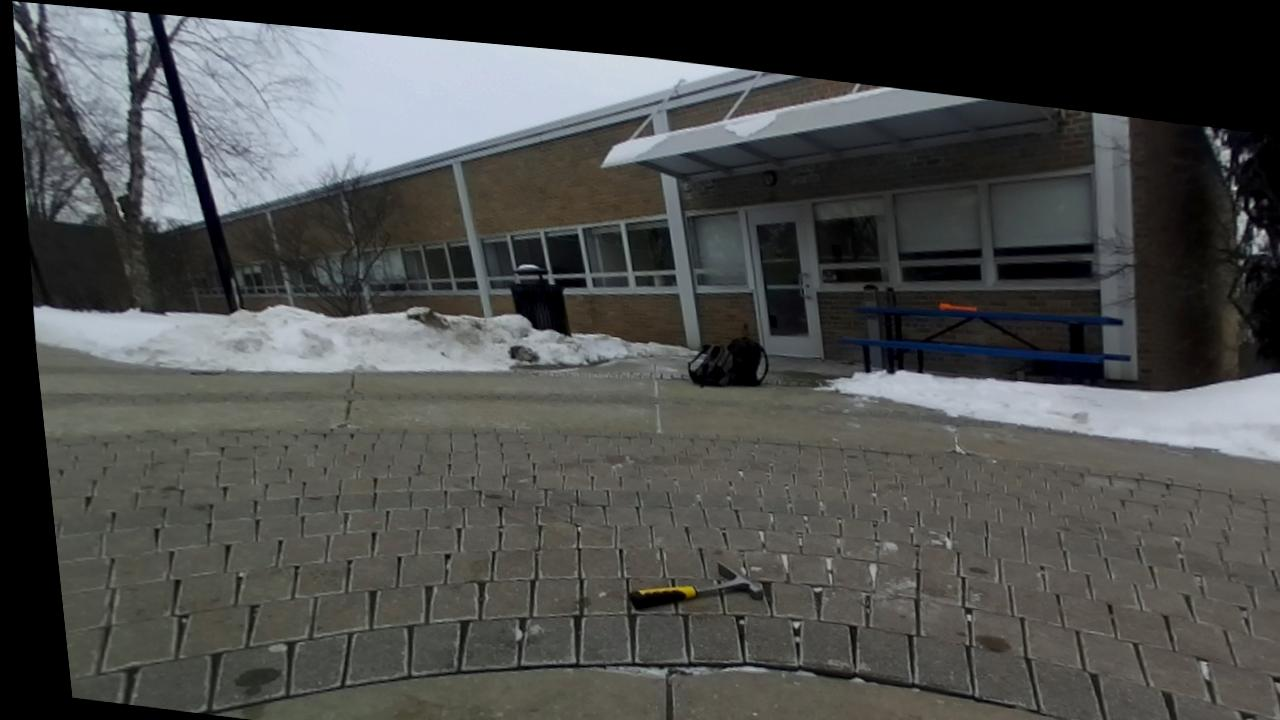mallet: (939, 304, 977, 310)
pick: (629, 563, 762, 609)
